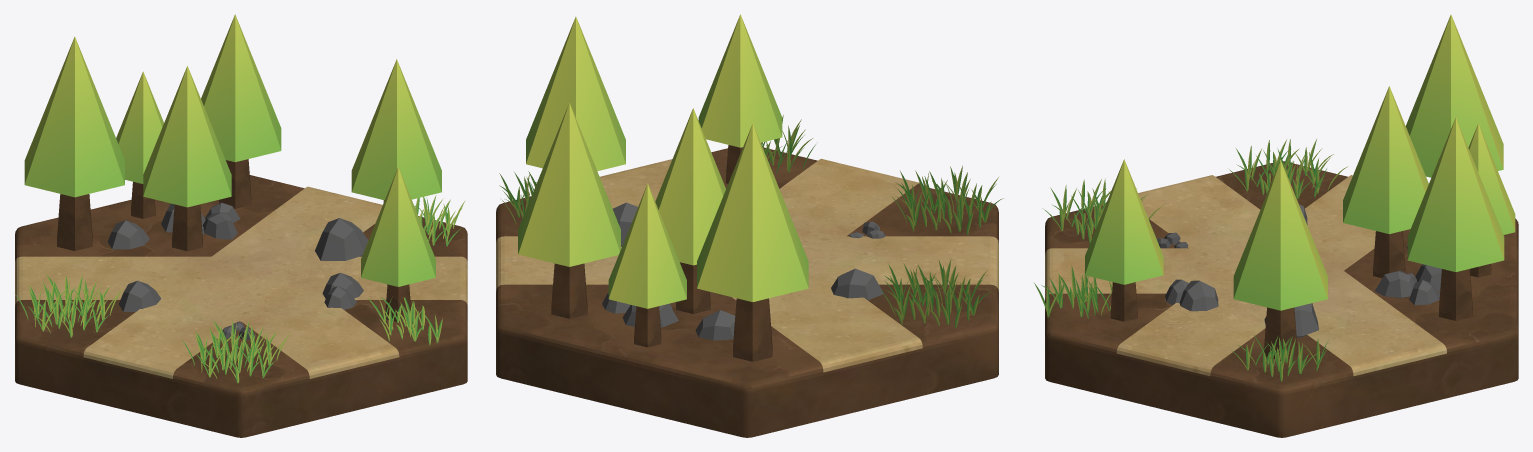
File: Road_TutType10.fbx
3 views of the same model, side by side, from view 1: azimuth 30°, elevation 25°; view 2: azimuth 150°, elevation 25°; view 3: azimuth 270°, elevation 25° (orthographic). The views are drawn at different scales.
Visible parts, largest first — view 1: Object011; view 2: Object011; view 3: Object011.
Boxes of the visible parts, x1,y1,x2,y2 form: Object011: (15, 14, 467, 437); Object011: (496, 14, 1003, 437); Object011: (1034, 14, 1518, 437).
Bounding box in the file's own units: 99.5 × 53.53 × 88.77.
